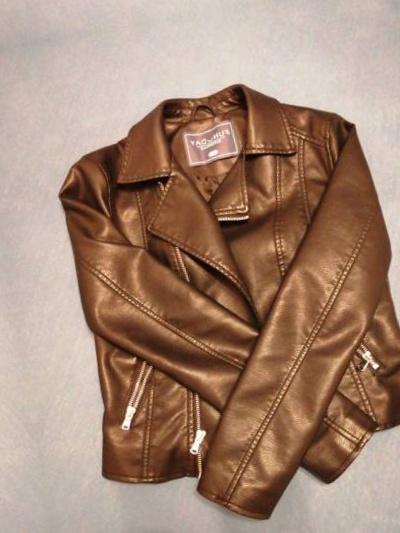Blazer: (27, 64, 400, 533), (0, 141, 12, 533)
